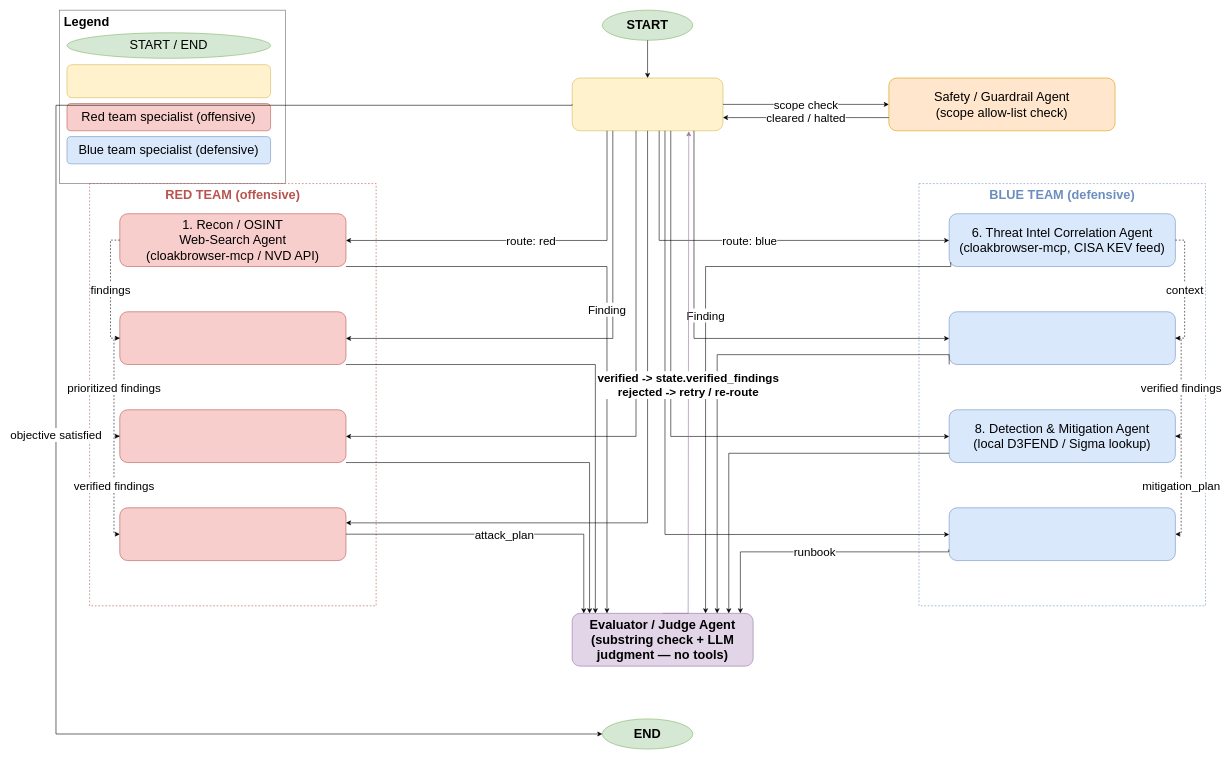
Some shapes in this 1231 by 759 pixel diagram are drawn without their labels. Each missing label, with the box of its shape:
2. Vulnerability Analysis Agent (CVSS parser, CWE lookup): (119, 311, 346, 365)
3. Exploit / PoC Discovery Agent (cloakbrowser-mcp, ATT&CK lookup): (119, 409, 346, 463)
4. Attack Planning Agent (local MITRE ATT&CK dataset): (119, 507, 346, 561)
7. Log / Alert Triage Agent (local log parser, ATT&CK lookup): (949, 311, 1175, 365)
9. Incident Response Agent (no tools — synthesis only): (949, 507, 1175, 561)
Orchestrator / Coordinator (router — no tools): (572, 77, 723, 131)
Orchestrator / Evaluator / Safety (no tools): (66, 64, 271, 98)
